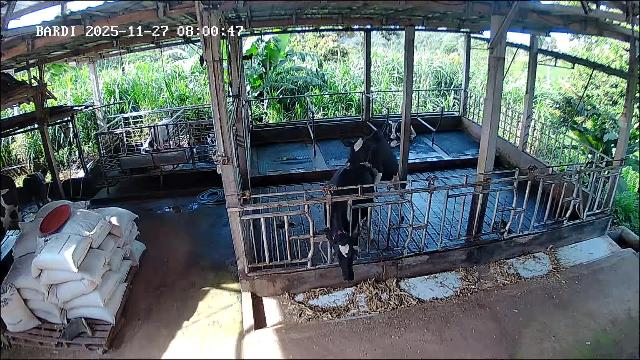mounting: (339, 128, 400, 227)
